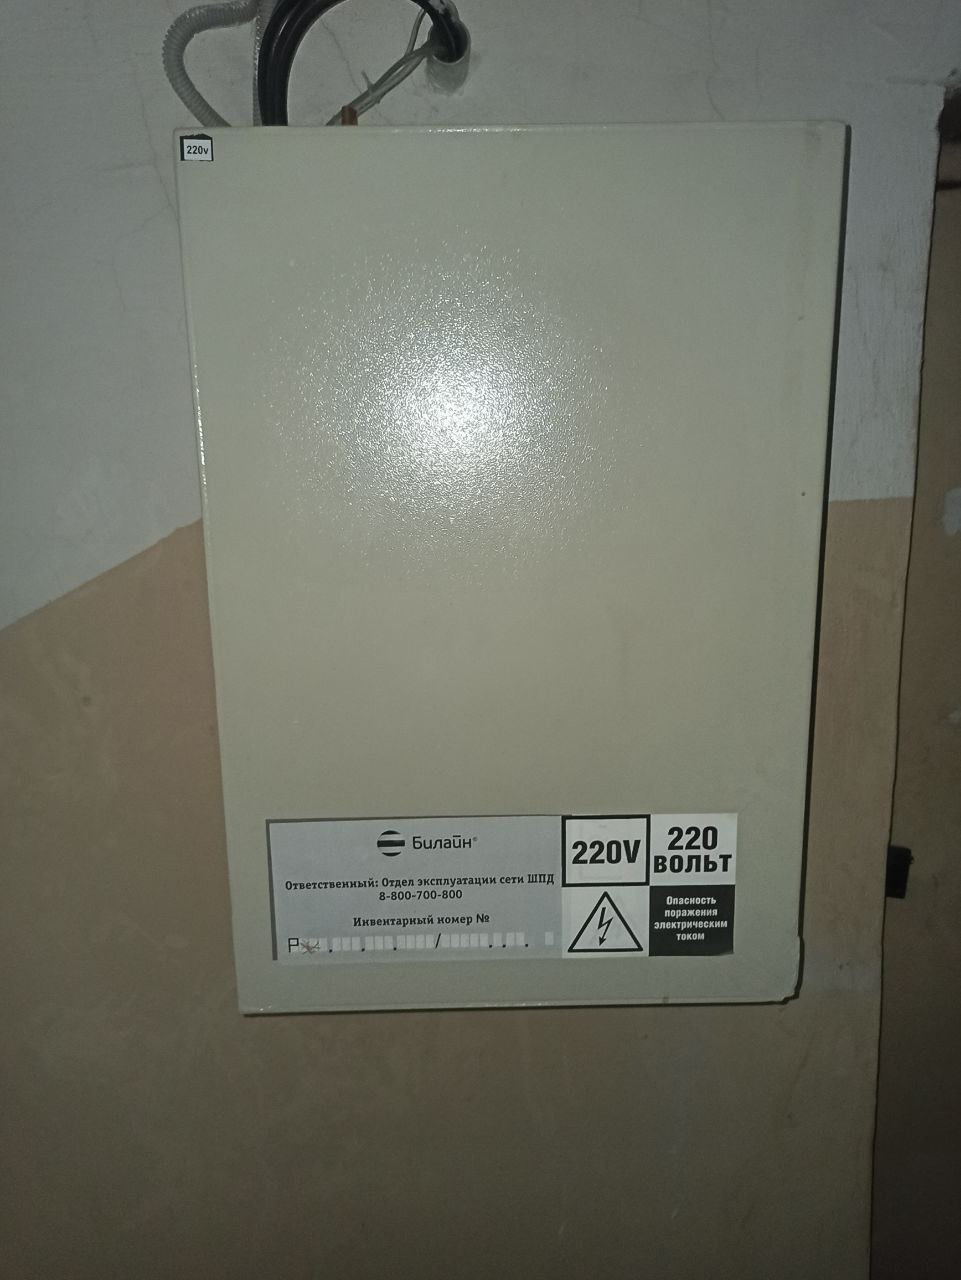sv-5: (152, 97, 858, 1030)
